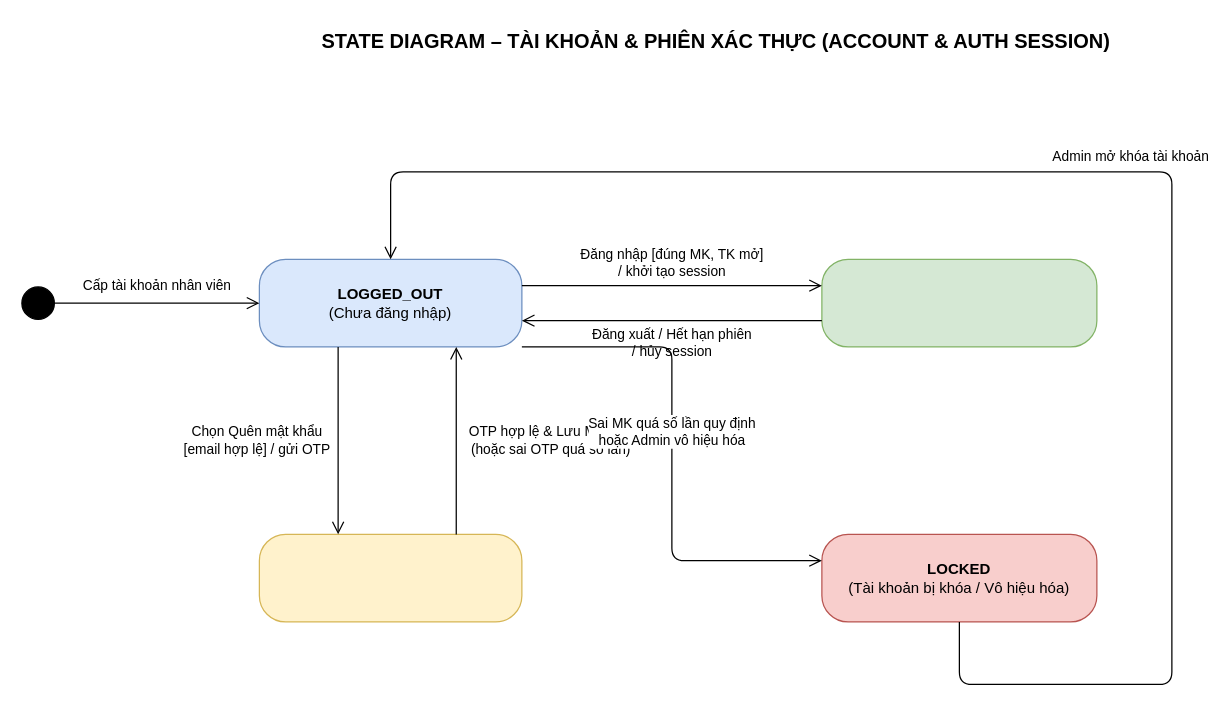
The diagram is 1230 pixels wide and 719 high, and some of its shapes have lost their labels. The centre of each missing label's shape, as x and y in pixels:
AUTHENTICATED (Đang hoạt động / Ca trực): the point at 959,302
OTP_VERIFY (Đang xác thực OTP / Đặt lại MK): the point at 390,577
